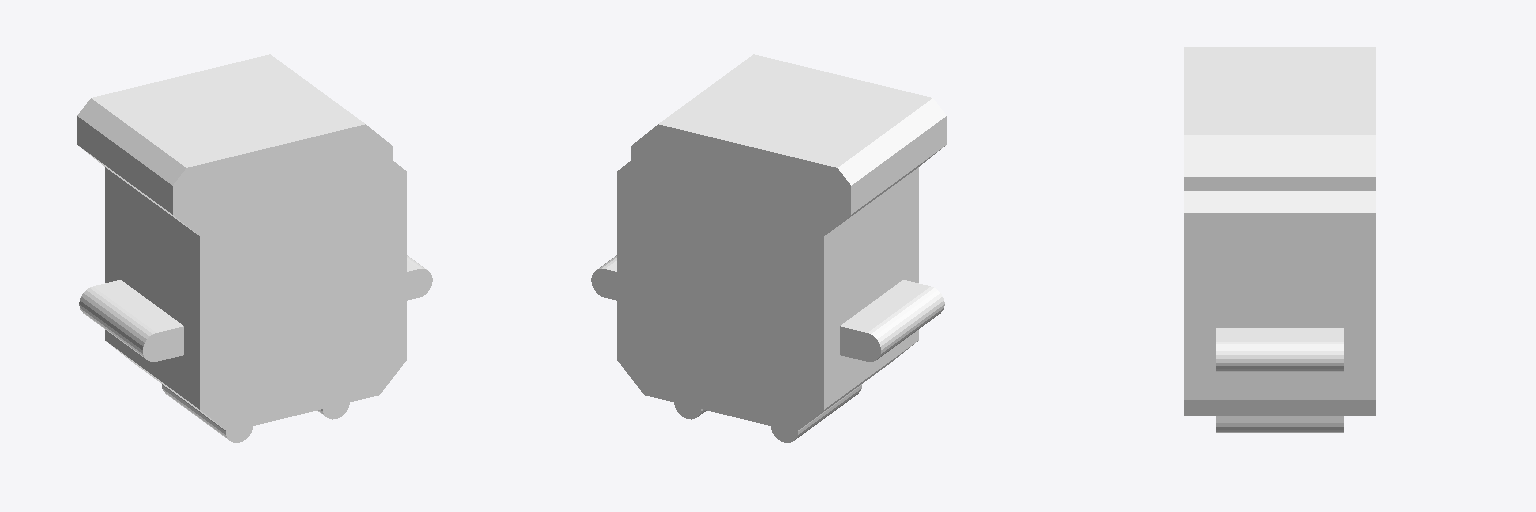
The model's file is Imp.obj.
3 views of the same model, side by side, from view 1: azimuth 30°, elevation 25°; view 2: azimuth 150°, elevation 25°; view 3: azimuth 270°, elevation 25° (orthographic).
Size of the model in its own units: 21 by 21 by 12.